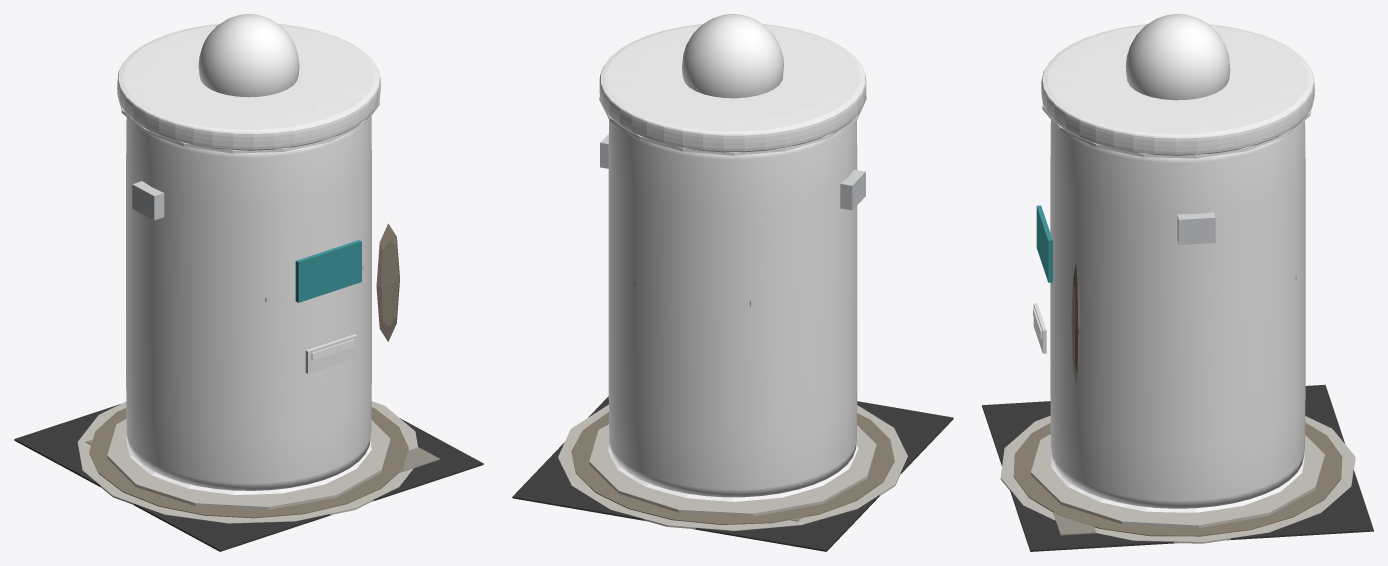
The model's file is hm_prop_trash_bin_v2.glb.
3 views of the same model, side by side, from view 1: azimuth 30°, elevation 25°; view 2: azimuth 150°, elevation 25°; view 3: azimuth 270°, elevation 25° (orthographic). The views are drawn at different scales.
Visible parts, largest first — view 1: Bin_Body, Bin_Lid, hm_prop_trash_bin_v2_Shadow, Bin_Dome, Bin_Salt, hm_prop_trash_bin_v2_Dirt, hm_prop_trash_bin_v2_SaltRing, Bin_Plate, Bin_Streak, Bin_Foot, hm_prop_trash_bin_v2_AssetPlate, Bin_Handle_-1 (+1 smaller); view 2: Bin_Body, Bin_Lid, hm_prop_trash_bin_v2_Shadow, Bin_Dome, Bin_Salt, hm_prop_trash_bin_v2_Dirt, hm_prop_trash_bin_v2_SaltRing, Bin_Foot, Bin_LidSeam, Bin_Handle_-1; view 3: Bin_Body, Bin_Lid, hm_prop_trash_bin_v2_Shadow, Bin_Dome, Bin_Salt, hm_prop_trash_bin_v2_Dirt, hm_prop_trash_bin_v2_SaltRing, Bin_Foot, Bin_Handle_1, Bin_LidSeam, Bin_Plate, Bin_Streak (+1 smaller).
Boxes of the visible parts, left/top/right/bottom form: Bin_Body: left=126, top=116, right=371, bottom=490; Bin_Lid: left=117, top=23, right=380, bottom=150; hm_prop_trash_bin_v2_Shadow: left=14, top=404, right=483, bottom=551; Bin_Dome: left=198, top=14, right=299, bottom=97; Bin_Salt: left=107, top=419, right=390, bottom=509; hm_prop_trash_bin_v2_Dirt: left=89, top=407, right=408, bottom=518; hm_prop_trash_bin_v2_SaltRing: left=77, top=401, right=417, bottom=523; Bin_Plate: left=295, top=240, right=361, bottom=302; Bin_Streak: left=376, top=223, right=399, bottom=341; Bin_Foot: left=126, top=436, right=371, bottom=494; hm_prop_trash_bin_v2_AssetPlate: left=305, top=334, right=357, bottom=373; Bin_Handle_-1: left=132, top=181, right=164, bottom=220; Bin_Body: left=608, top=120, right=857, bottom=497; Bin_Lid: left=599, top=23, right=866, bottom=152; hm_prop_trash_bin_v2_Shadow: left=512, top=396, right=953, bottom=551; Bin_Dome: left=682, top=14, right=783, bottom=98; Bin_Salt: left=589, top=424, right=876, bottom=516; hm_prop_trash_bin_v2_Dirt: left=571, top=412, right=894, bottom=524; hm_prop_trash_bin_v2_SaltRing: left=558, top=404, right=907, bottom=530; Bin_Foot: left=607, top=444, right=858, bottom=501; Bin_LidSeam: left=599, top=95, right=866, bottom=155; Bin_Handle_-1: left=840, top=169, right=865, bottom=210; Bin_Body: left=1050, top=120, right=1305, bottom=508; Bin_Lid: left=1041, top=24, right=1314, bottom=155; hm_prop_trash_bin_v2_Shadow: left=982, top=384, right=1373, bottom=551; Bin_Dome: left=1125, top=14, right=1230, bottom=100; Bin_Salt: left=1031, top=434, right=1324, bottom=528; hm_prop_trash_bin_v2_Dirt: left=1013, top=422, right=1342, bottom=536; hm_prop_trash_bin_v2_SaltRing: left=1000, top=415, right=1355, bottom=543; Bin_Foot: left=1051, top=451, right=1304, bottom=512; Bin_Handle_1: left=1177, top=212, right=1215, bottom=244; Bin_LidSeam: left=1042, top=104, right=1311, bottom=158; Bin_Plate: left=1036, top=205, right=1052, bottom=282; Bin_Streak: left=1071, top=263, right=1080, bottom=384.
Size of the model in its own units: 0.8443 by 1.07 by 0.8443.
